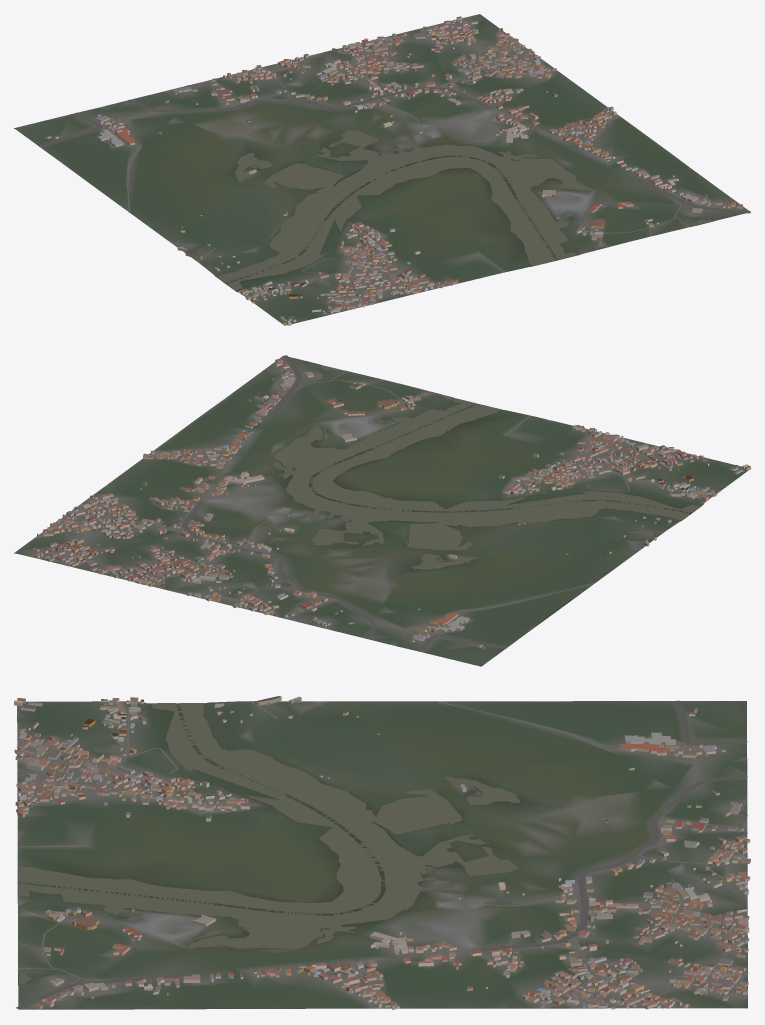
3 views of the same model, one above another, from view 1: azimuth 30°, elevation 25°; view 2: azimuth 150°, elevation 25°; view 3: azimuth 270°, elevation 25° (orthographic). The views are drawn at different scales.
Parts seen in each view (by area): view 1: ground, buildings, water, roads; view 2: ground, buildings, water, roads; view 3: ground, water, buildings, roads.
Part boxes in pixels (x1,y1,x2,y2): ground: (14,14,750,325); buildings: (45,16,742,325); water: (59,81,711,290); roads: (39,17,750,311); ground: (14,356,750,666); buildings: (32,358,750,649); water: (233,365,700,654); roads: (29,355,711,652); ground: (17,701,747,1009); water: (18,703,738,984); buildings: (14,696,750,1009); roads: (16,700,748,1009).
Size of the model in its own units: 1409 by 19.01 by 1416.
